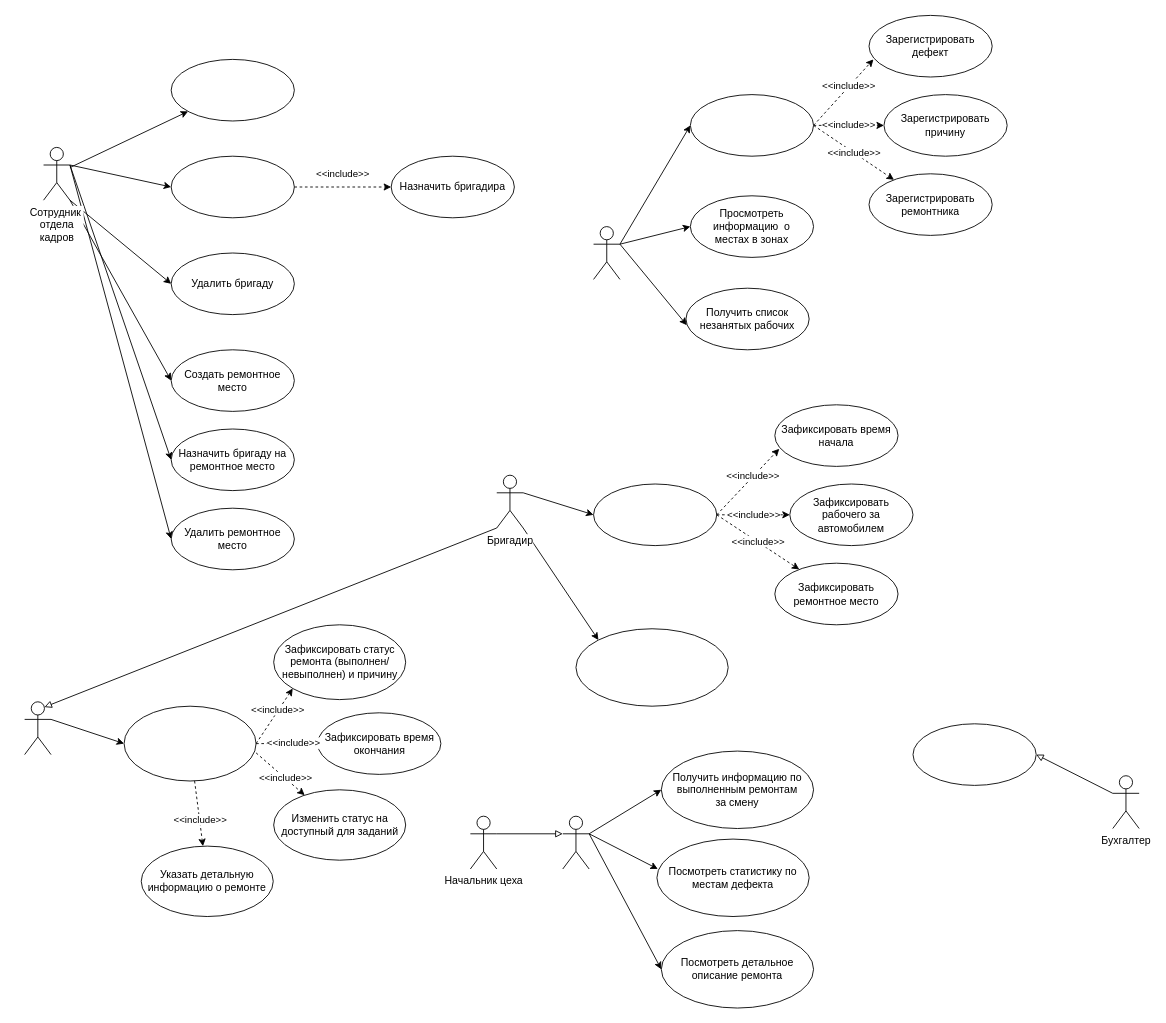
This 1166x1023 diagram has some shape labels left out. Here are the shapes that lost their labels. From the top down, the centre of each, then its label:
(232,90): Добавить работника
(751,125): Принять автомобиль в ремонтную зону
(232,186): Создать бригаду
(606,252): Диспетчер
(655,514): Назначить рабочего на ремонт автомобиля
(651,667): Получить информацию по работникам своей бригады за смену
(37,728): Работник
(189,743): Закончить ремонт над назначенным автомобилем
(974,754): Получить отчет по сотрудника за месяц
(575,842): Сотрудник отдела контроля качества
